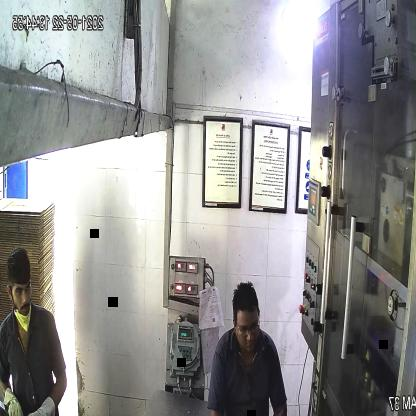goggles: (230, 316, 262, 342)
no_goggles: (11, 280, 33, 298)
